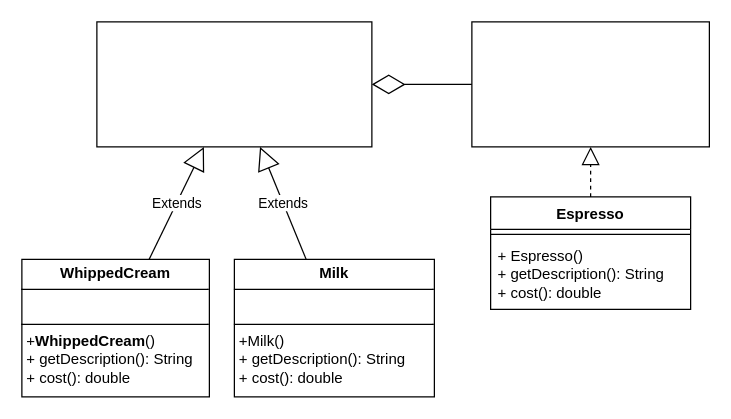
This 731x419 diagram has some shape labels left out. The box of each missing label's shape, as (x1, y1, x2, y2) in pixels:
<<abstract>> AddonDecorator ~ Beverage + AddonDecorator(Beverage): void: (96, 21, 372, 147)
<<Interface>> Beverage +Beverage() + getDescription(): Strting + cost(): double: (471, 21, 709, 147)
